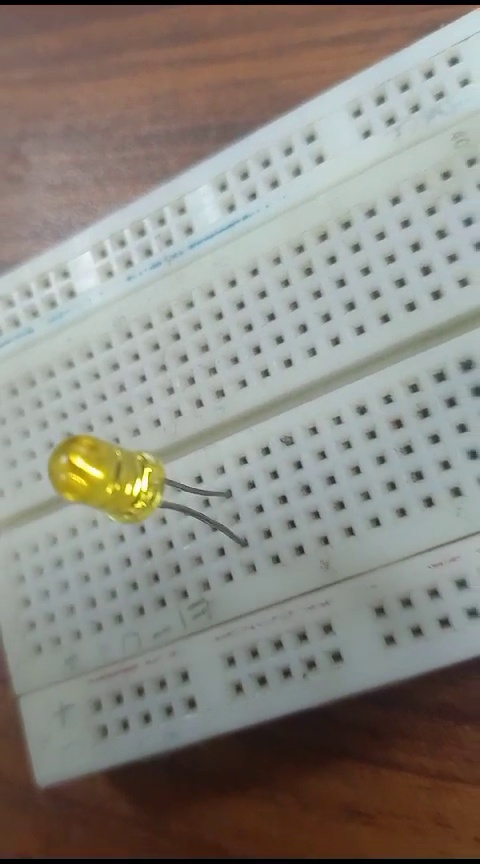LED: (56, 417, 238, 553)
